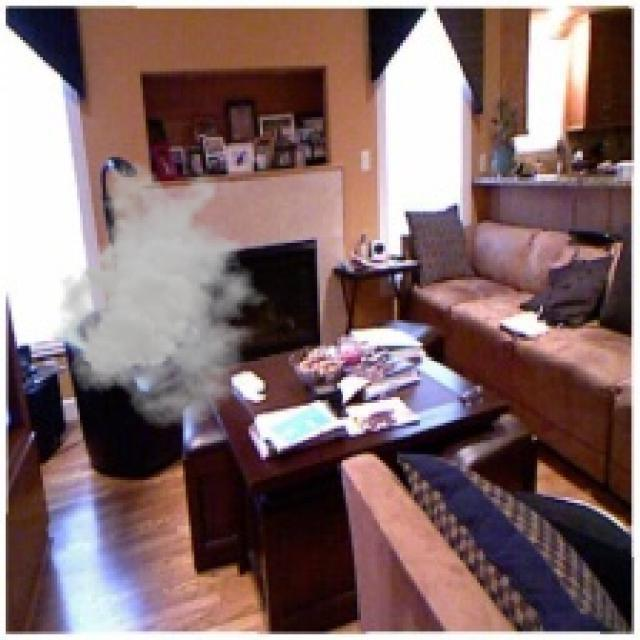Smoke: (51, 160, 280, 429)
